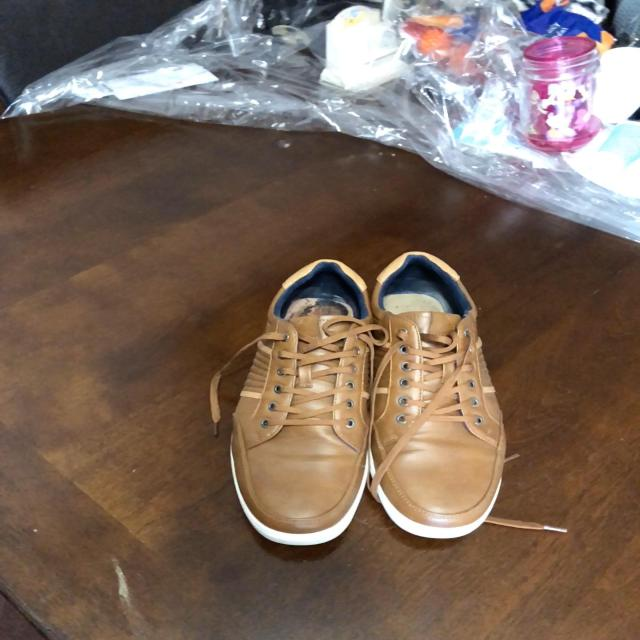shoe: (230, 265, 381, 539), (370, 253, 507, 530)
